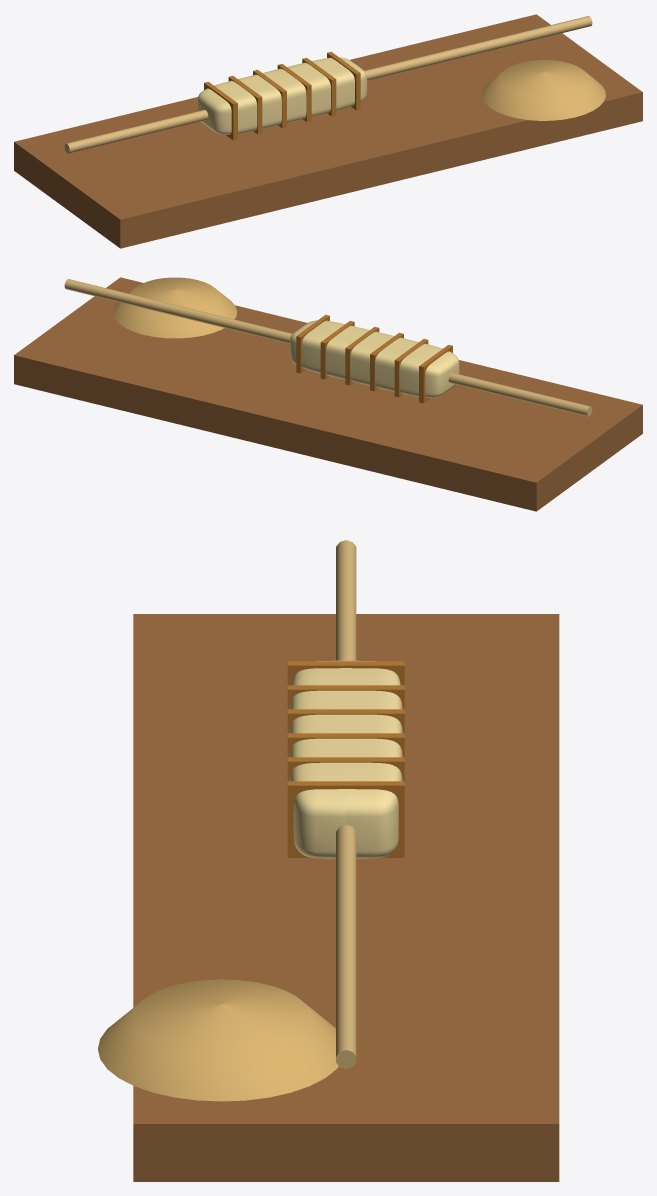
The model's file is espeto-queijo.glb.
3 views of the same model, one above another, from view 1: azimuth 30°, elevation 25°; view 2: azimuth 150°, elevation 25°; view 3: azimuth 270°, elevation 25° (orthographic). The views are drawn at different scales.
Parts seen in each view (by area): view 1: espeto-queijo; view 2: espeto-queijo; view 3: espeto-queijo.
Boxes of the visible parts, <box> form: espeto-queijo: <box>14,14,642,248</box>; espeto-queijo: <box>14,277,642,511</box>; espeto-queijo: <box>98,540,559,1181</box>.
Bounding box in the file's own units: 0.34 × 0.0492 × 0.13.
